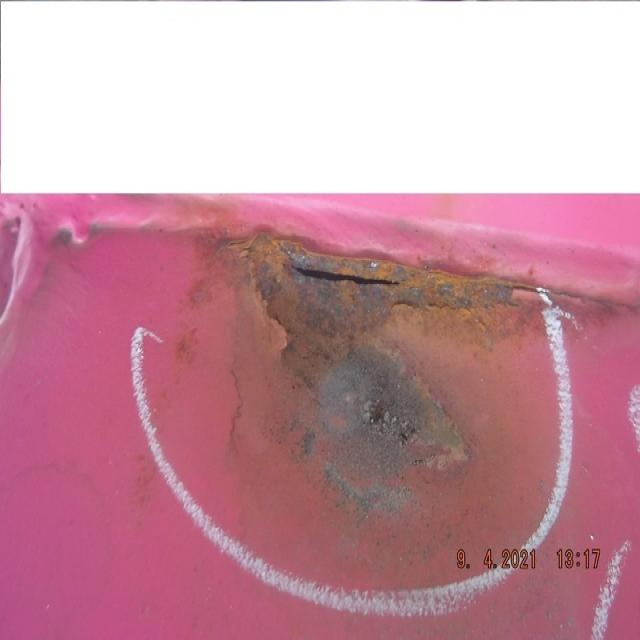rust: (246, 220, 519, 357)
